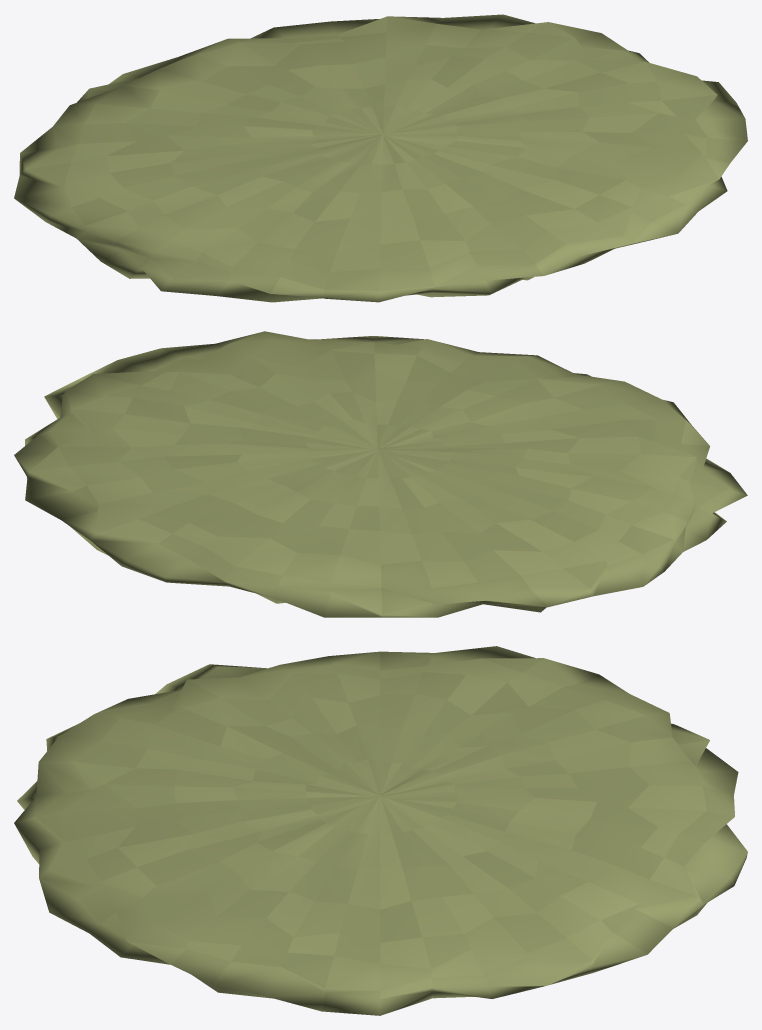
The model's file is Verjuice.glb.
3 views of the same model, one above another, from view 1: azimuth 30°, elevation 25°; view 2: azimuth 150°, elevation 25°; view 3: azimuth 270°, elevation 25° (orthographic). The views are drawn at different scales.
Parts seen in each view (by area): view 1: Verjuice; view 2: Verjuice; view 3: Verjuice.
Boxes of the visible parts, x1,y1,x2,y2 form: Verjuice: (14, 14, 747, 302); Verjuice: (14, 331, 747, 617); Verjuice: (14, 646, 747, 1015).
Size of what is drawn, in the model's own units: 0.0728 by 0.0058 by 0.0622.
